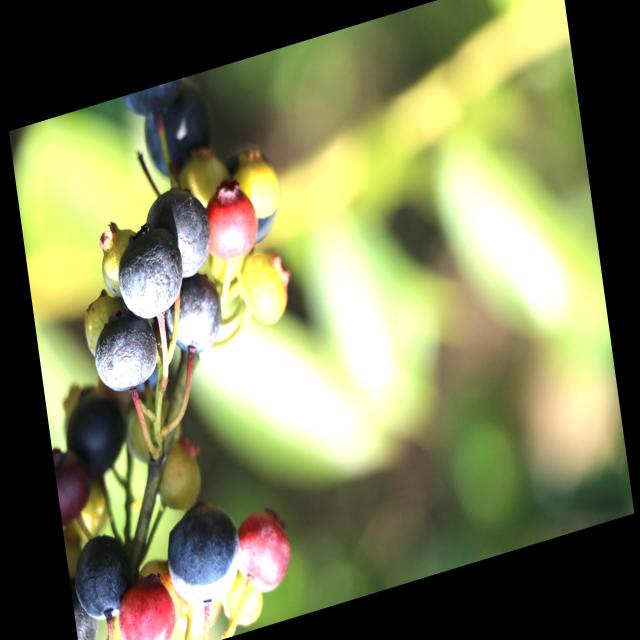blueberry: (155, 491, 251, 616), (109, 221, 190, 328), (138, 182, 216, 288), (69, 527, 141, 634), (57, 386, 132, 488), (137, 89, 217, 183), (162, 266, 234, 364), (89, 304, 163, 398)
blueberry-halfripe: (232, 501, 298, 595), (203, 180, 264, 269), (116, 571, 178, 640)
blueberry-unripe: (240, 247, 292, 329), (155, 439, 206, 515), (231, 154, 284, 225)
